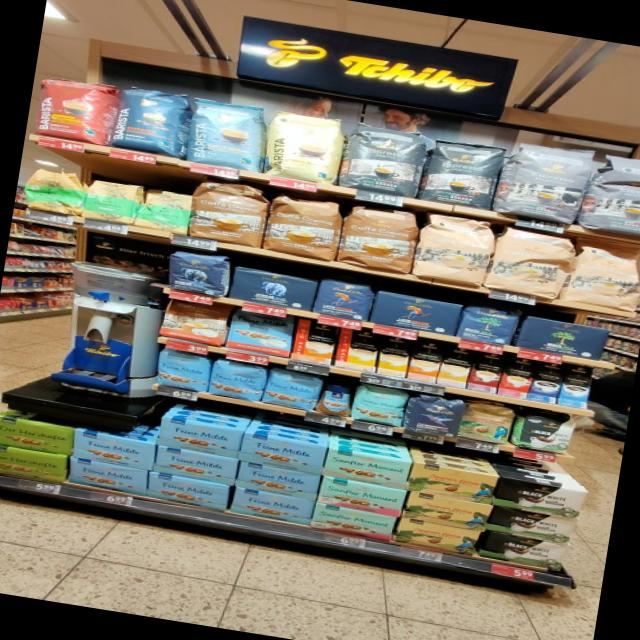AB Bohne: (166, 249, 229, 298)
AB Gemahlen: (228, 264, 320, 313)
Athiopien Bohne: (21, 166, 86, 217)
Athiopien Gemahlen: (131, 186, 196, 235), (79, 178, 141, 226)
BM Bohne: (457, 303, 522, 346)
BM Gemahlen: (514, 314, 612, 362)
BW Bohne: (510, 409, 583, 455)
BW Gemahlen: (491, 476, 590, 521), (484, 505, 581, 547), (474, 531, 571, 572)
Barista CB: (261, 107, 348, 186)
Barista CC: (184, 95, 270, 173)
Barista Espresso: (109, 85, 193, 160)
Barista Kolumbien: (28, 72, 121, 147)
C Fino Bohne: (404, 394, 467, 438)
CC Mild: (483, 227, 580, 299), (409, 212, 498, 287), (560, 240, 640, 313)
CC Vollmundig: (155, 298, 233, 348)
CC Vollmundig 36 Pads: (335, 200, 424, 277), (262, 189, 346, 263), (187, 176, 270, 249)
Colombia BB Bohne: (458, 400, 517, 446)
Colombia BB Gemahlen: (407, 461, 500, 505), (402, 491, 493, 532), (393, 517, 484, 557)
Espresso Aromatisch: (494, 140, 595, 226), (579, 151, 640, 237)
Espresso Kraftig: (337, 120, 429, 199), (417, 136, 508, 210)
FM 36 Pads: (223, 310, 297, 358)
FM Bohne: (260, 367, 323, 413), (206, 357, 268, 403), (153, 349, 213, 393)
FM Gemahlen: (155, 416, 245, 460), (239, 431, 328, 475), (72, 430, 158, 472), (235, 460, 321, 502), (151, 445, 239, 486), (146, 472, 231, 512), (229, 488, 316, 526), (68, 457, 149, 497)
FM Instant: (313, 382, 358, 417)
Herzhatfe Mundig: (0, 415, 78, 456), (0, 445, 69, 484)
LG Bohne: (312, 278, 376, 322)
LG Gemahlen: (369, 289, 463, 337)
SM Bohne: (350, 383, 410, 428)
SM Gemahlen: (321, 446, 412, 491), (318, 476, 408, 518), (311, 502, 398, 542)
Simo CCMild: (335, 327, 382, 374)
Simo CCMild bigpack: (376, 335, 414, 379)
Simo CCVollmundig: (289, 319, 340, 366)
Simo CCVollmundig bigpack: (406, 340, 446, 384)
Simo Decaff: (437, 345, 476, 389)
Simo Es Brazil: (497, 356, 540, 400)
Simo Es Caramel: (466, 351, 507, 395), (528, 362, 568, 405)
Simo Es Vanilla: (558, 364, 597, 409)
